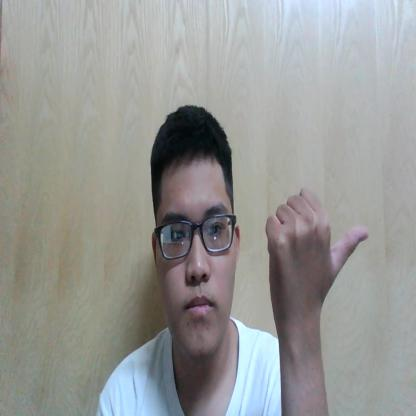left: (264, 185, 369, 322)
